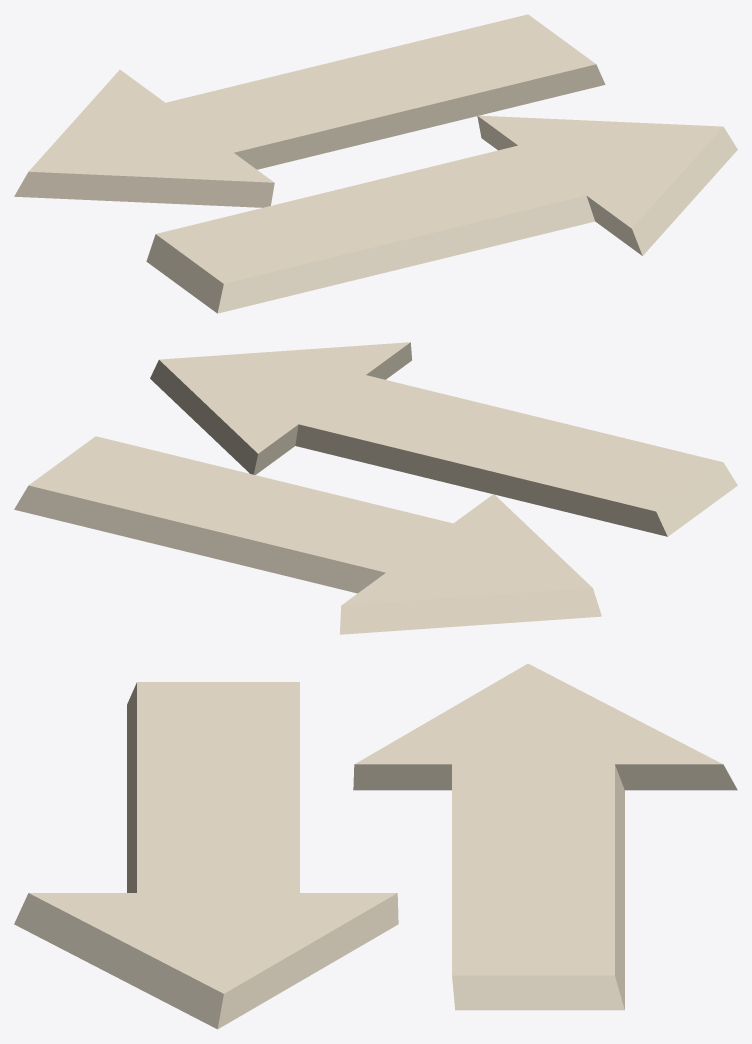
Rendered from SunnyLoop_Space_Symbol_Switch_v1.glb.
3 views of the same model, one above another, from view 1: azimuth 30°, elevation 25°; view 2: azimuth 150°, elevation 25°; view 3: azimuth 270°, elevation 25° (orthographic). The views are drawn at different scales.
Parts seen in each view (by area): view 1: SunnyLoop_Space_Symbol_Switch_v1; view 2: SunnyLoop_Space_Symbol_Switch_v1; view 3: SunnyLoop_Space_Symbol_Switch_v1.
Part boxes in pixels (box(x1,y1,x2,y2)): SunnyLoop_Space_Symbol_Switch_v1: box(14, 14, 737, 313); SunnyLoop_Space_Symbol_Switch_v1: box(14, 342, 737, 634); SunnyLoop_Space_Symbol_Switch_v1: box(14, 663, 737, 1029).
Size of the model in its own units: 1.01 by 0.0392 by 0.896.
